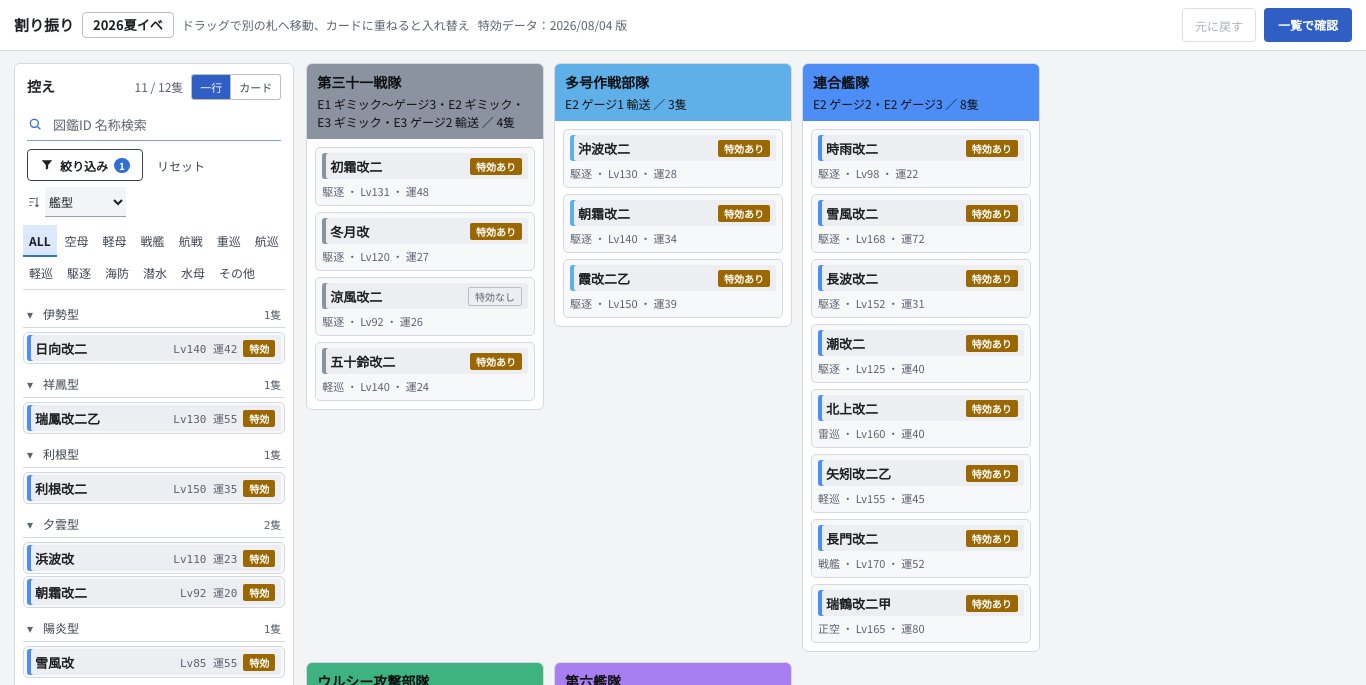
Test case: 割り振り画面の中身（AssignScreen） › 控えの見出しと表示の切り替え › 表示の詰め具合は初め「一行」で、「カード」を押すとカードに切り替わる
The image size is (1366, 685).
Click the button "カード": (256,87) [231,74,281,100]
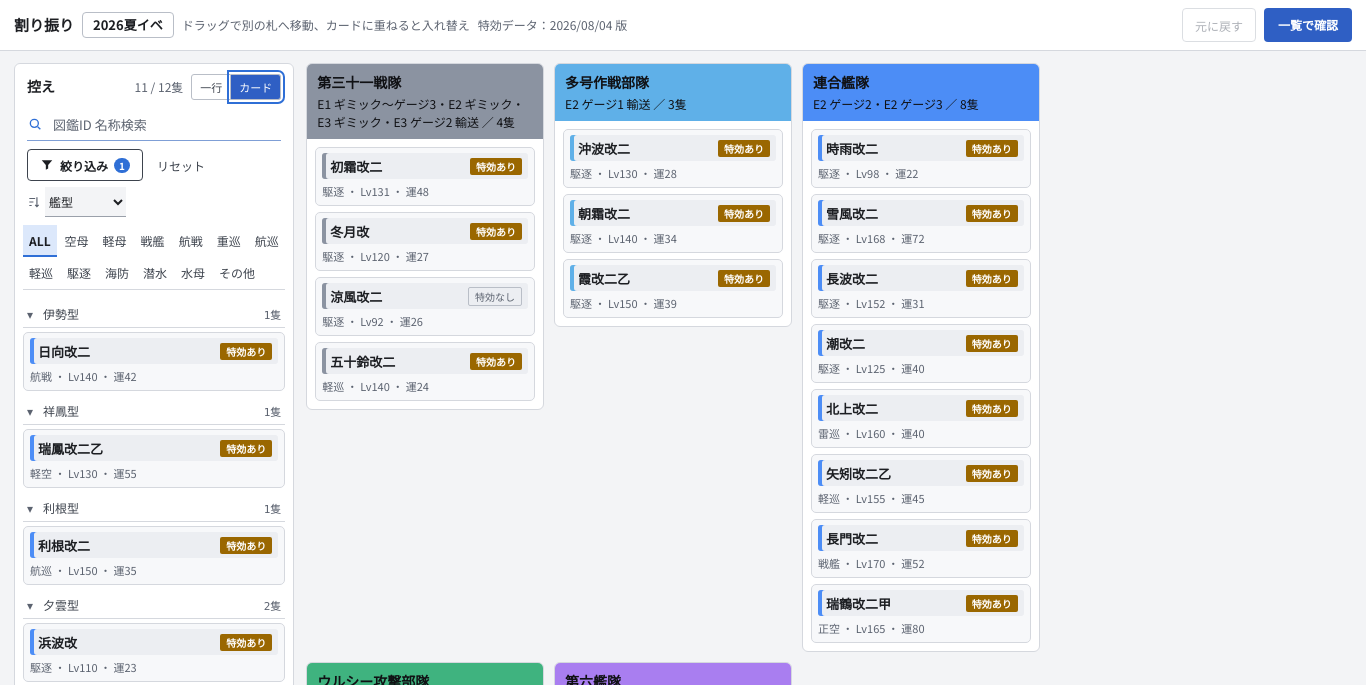
Now the button "浜波改 特効あり 駆逐 ・ Lv110 ・ 運23" is shown, box [23,623,285,682]
